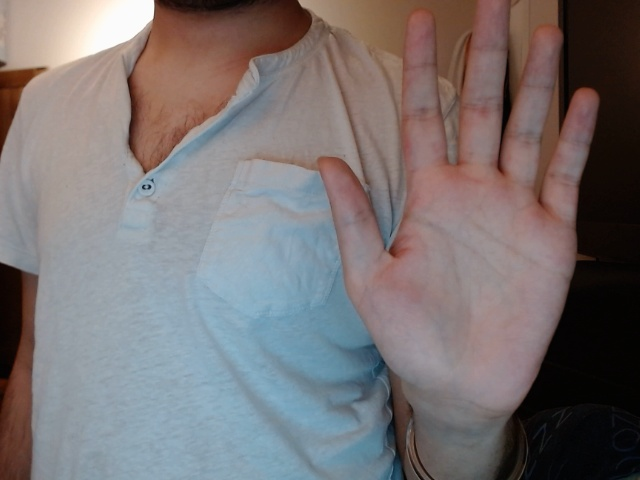Hello: (312, 1, 608, 464)
